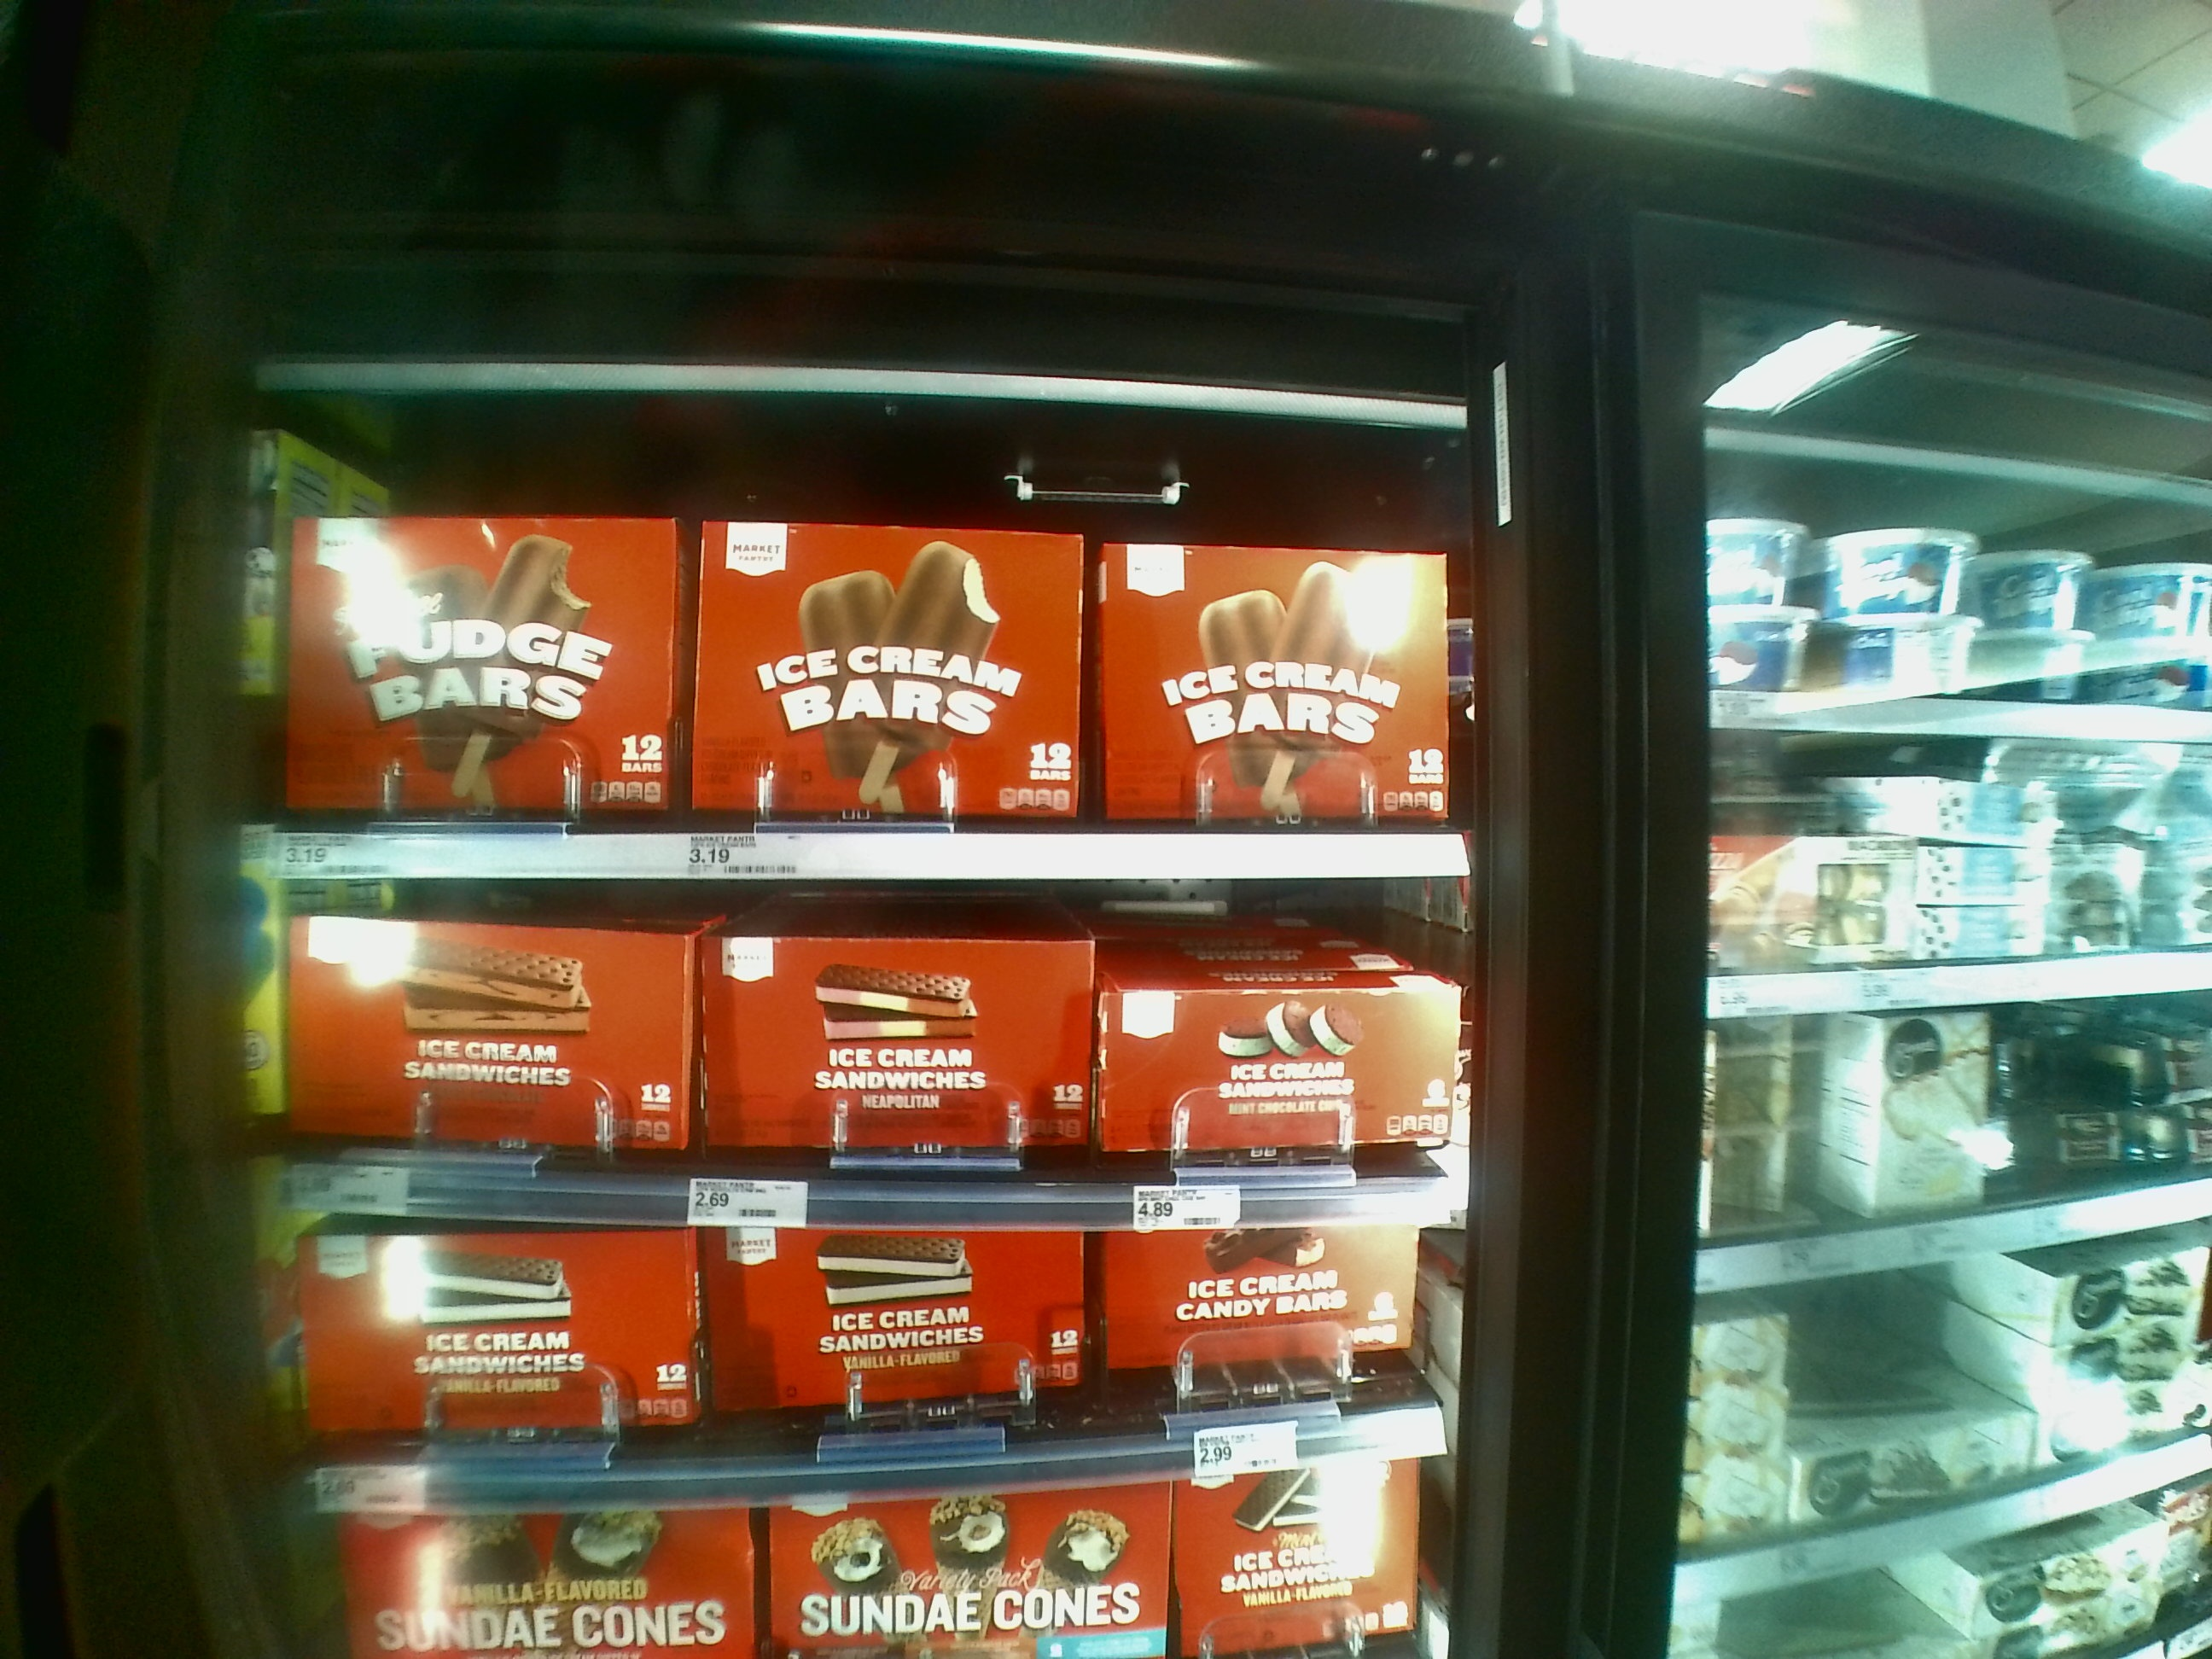shelf: (266, 410, 1465, 887), (275, 887, 1449, 1234), (300, 1248, 1411, 1492)
